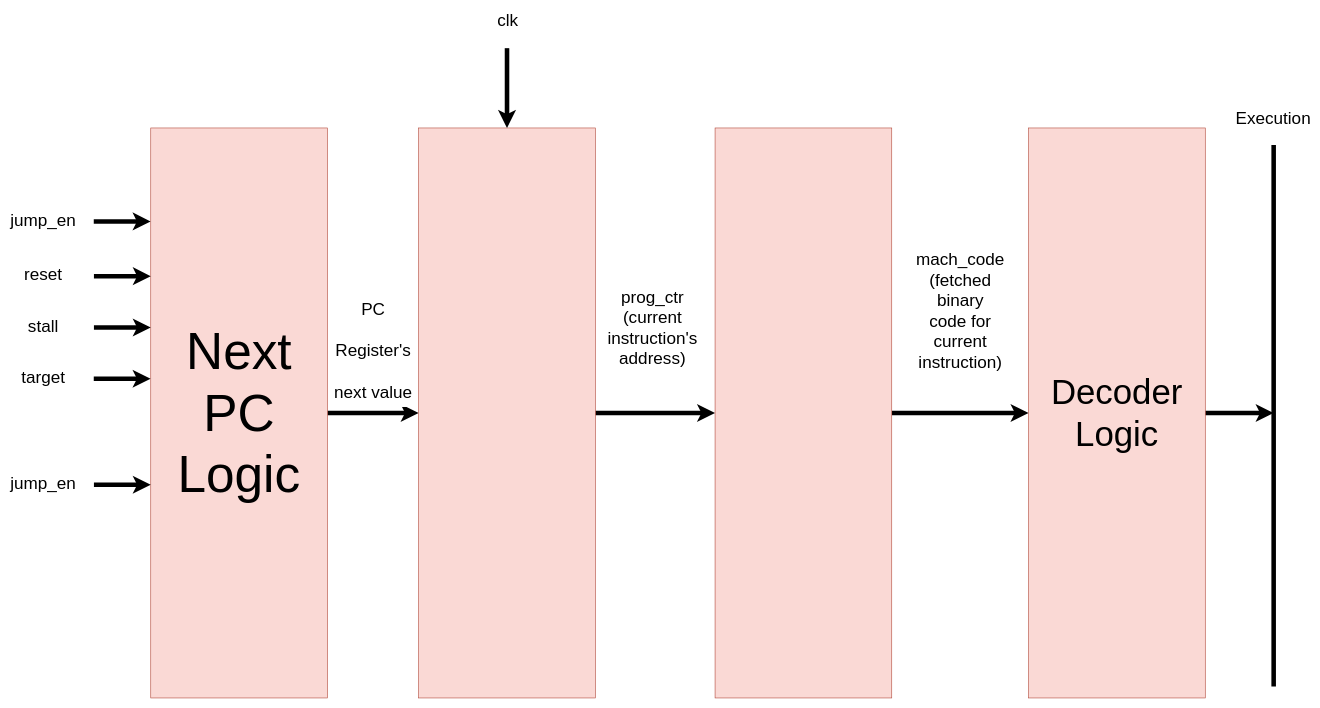
Image size: 1320x708. Some labels were removed from this diagram. Here are the shapes that lost their labels. From the top down, the box of each, then its label:
(418, 127, 595, 698): PC Register
(714, 127, 892, 698): instruction ROM
